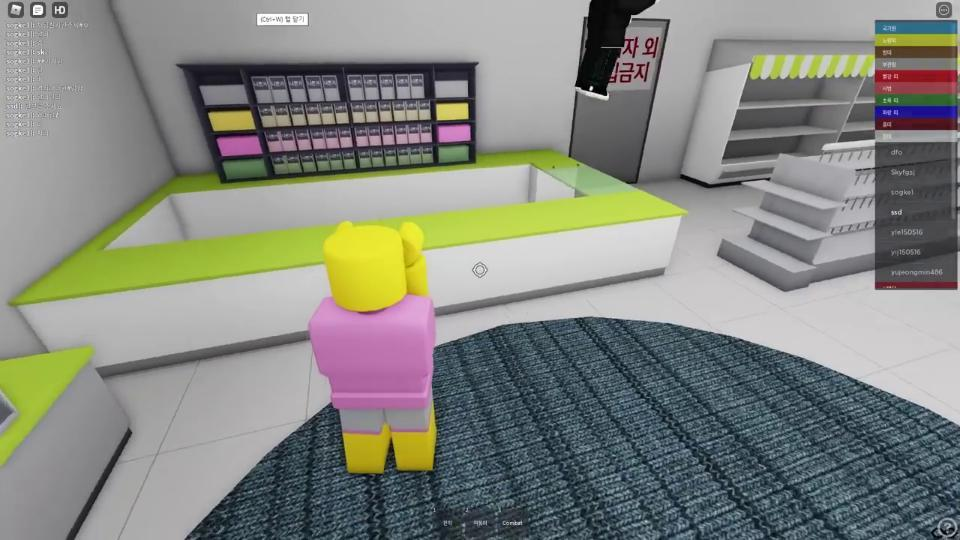Character: (309, 220, 437, 473)
